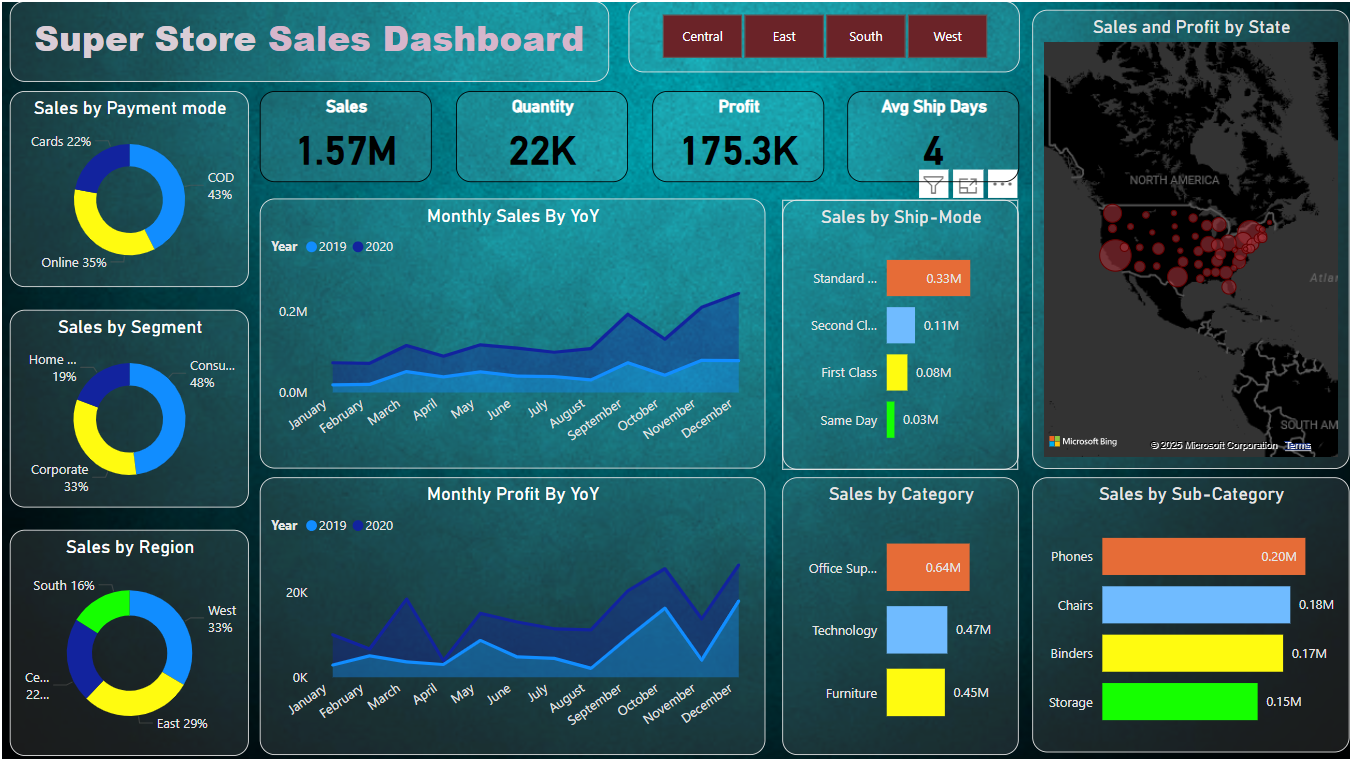

Layout of this report page (visuals, bound fields, positions):
{"tool":"powerbi","page":{"name":"Dahboard","canvas":[1280,720],"ordinal":0},"visuals":[{"type":"clusteredBarChart","title":"Sales by Category","fields":{"Category":["SuperStore_Sales_Dataset.Category"],"Y":["Sum(SuperStore_Sales_Dataset.Sales)"]},"box":[736.2,452.5,220,258.8],"z":0},{"type":"clusteredBarChart","title":"Sales by Sub-Category","fields":{"Category":["SuperStore_Sales_Dataset.Sub-Category"],"Y":["Sum(SuperStore_Sales_Dataset.Sales)"]},"box":[968.8,452.5,295,256.2],"z":1000},{"type":"clusteredBarChart","title":"Sales by Ship-Mode","fields":{"Category":["SuperStore_Sales_Dataset.Ship Mode"],"Y":["Sum(SuperStore_Sales_Dataset.Sales)"]},"box":[736.2,193.8,220,251.2],"z":2000},{"type":"stackedAreaChart","title":"Monthly Sales By YoY","fields":{"Category":["SuperStore_Sales_Dataset.Order Date.Variation.Date Hierarchy.Month"],"Y":["Sum(SuperStore_Sales_Dataset.Sales)"],"Series":["SuperStore_Sales_Dataset.Order Date.Variation.Date Hierarchy.Year"]},"box":[250,192.5,470,251.2],"z":3000},{"type":"stackedAreaChart","title":"Monthly Profit By YoY","fields":{"Category":["SuperStore_Sales_Dataset.Order Date.Variation.Date Hierarchy.Month"],"Series":["SuperStore_Sales_Dataset.Order Date.Variation.Date Hierarchy.Year"],"Y":["Sum(SuperStore_Sales_Dataset.Profit)"]},"box":[250,452.5,470,258.8],"z":4000},{"type":"map","title":"Sales and Profit by State","fields":{"Category":["SuperStore_Sales_Dataset.State"],"Size":["Sum(SuperStore_Sales_Dataset.Sales)"]},"box":[968.8,17.5,295,427.5],"z":5000},{"type":"donutChart","title":"Sales by Segment","fields":{"Category":["SuperStore_Sales_Dataset.Segment"],"Y":["Sum(SuperStore_Sales_Dataset.Sales)"]},"box":[17.5,296.2,222.5,183.8],"z":6000},{"type":"donutChart","title":"Sales by Payment mode","fields":{"Category":["SuperStore_Sales_Dataset.Payment Mode"],"Y":["Sum(SuperStore_Sales_Dataset.Sales)"]},"box":[17.5,92.5,222.5,182.5],"z":7000},{"type":"donutChart","title":"Sales by Region","fields":{"Category":["SuperStore_Sales_Dataset.Region"],"Y":["Sum(SuperStore_Sales_Dataset.Sales)"]},"box":[17.5,501.2,222.5,210],"z":8000},{"type":"slicer","fields":{"Values":["SuperStore_Sales_Dataset.Region"]},"box":[592.5,8.8,363.8,66.2],"z":9000},{"type":"textbox","box":[17.5,8.8,557.5,75],"z":10000},{"type":"card","title":"Sales","fields":{"Values":["Sum(SuperStore_Sales_Dataset.Sales)"]},"box":[250,92.5,160,85],"z":11000},{"type":"card","title":"Quantity","fields":{"Values":["Sum(SuperStore_Sales_Dataset.Quantity)"]},"box":[432.5,92.5,160,85],"z":12000},{"type":"card","title":"Profit","fields":{"Values":["Sum(SuperStore_Sales_Dataset.Profit)"]},"box":[615,92.5,160,85],"z":13000},{"type":"card","title":"Avg Ship Days","fields":{"Values":["Avg(SuperStore_Sales_Dataset.AvgDelivery)"]},"box":[796.2,92.5,160,85],"z":14000}]}

Visuals, with their boxes in screenshot pixels (x1, y1, x2, y2), scaled from the page's 1280x720 canvas onto the 1352x761 screenshot:
"Sales by Category" clusteredBarChart: bbox=[778, 478, 1010, 752]
"Sales by Sub-Category" clusteredBarChart: bbox=[1023, 478, 1335, 749]
"Sales by Ship-Mode" clusteredBarChart: bbox=[778, 205, 1010, 470]
"Monthly Sales By YoY" stackedAreaChart: bbox=[264, 203, 760, 469]
"Monthly Profit By YoY" stackedAreaChart: bbox=[264, 478, 760, 752]
"Sales and Profit by State" map: bbox=[1023, 18, 1335, 470]
"Sales by Segment" donutChart: bbox=[18, 313, 253, 507]
"Sales by Payment mode" donutChart: bbox=[18, 98, 253, 291]
"Sales by Region" donutChart: bbox=[18, 530, 253, 752]
slicer - SuperStore_Sales_Dataset.Region: bbox=[626, 9, 1010, 79]
textbox: bbox=[18, 9, 607, 89]
"Sales" card: bbox=[264, 98, 433, 188]
"Quantity" card: bbox=[457, 98, 626, 188]
"Profit" card: bbox=[650, 98, 819, 188]
"Avg Ship Days" card: bbox=[841, 98, 1010, 188]
